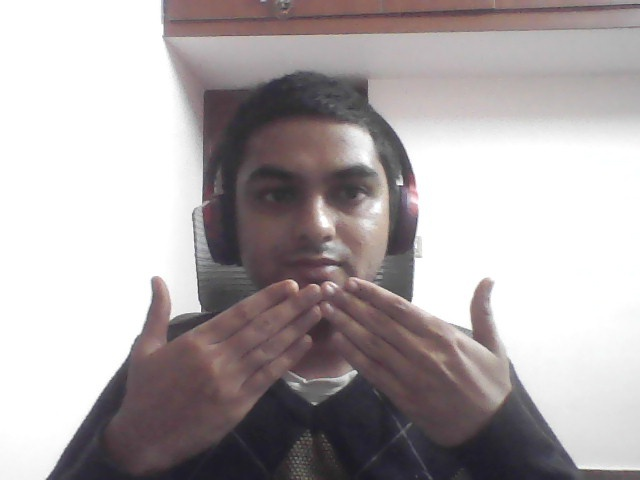Thank You: (79, 259, 554, 469)
